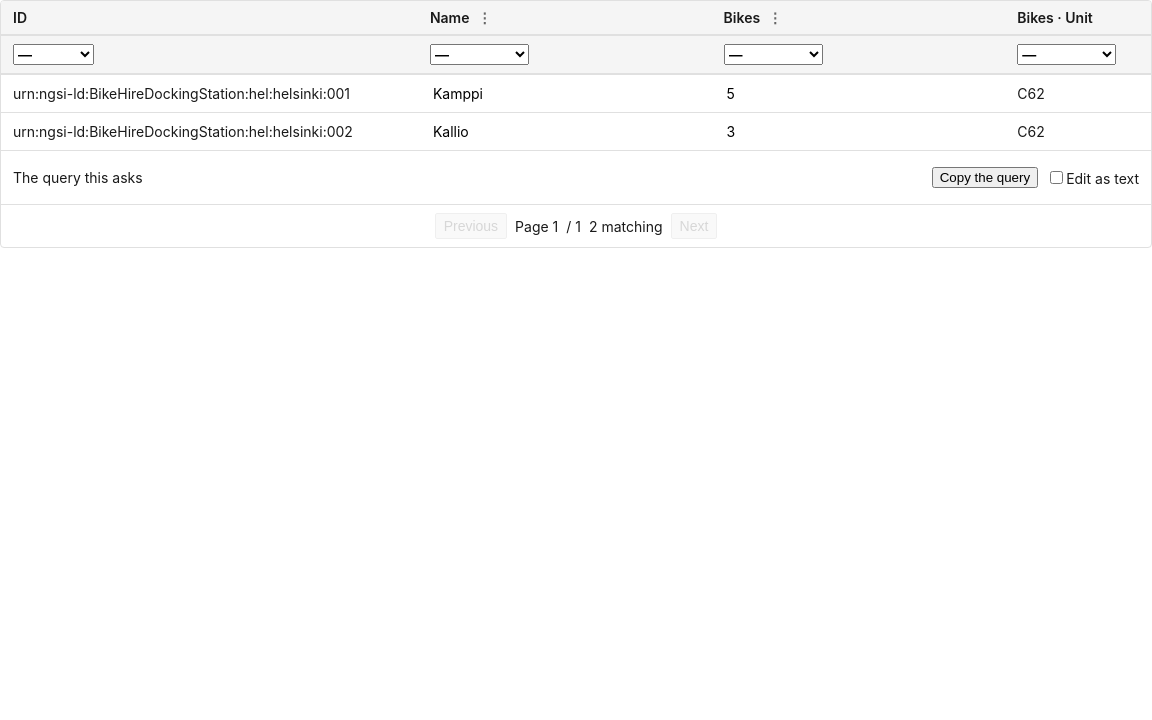
edit mode › keeps a refused cell and its reason, and forgets the one that landed
The width and height of the screenshot is (1152, 720).
Replace the text in the 1st number field showing "5" with "4" at (858, 94), box [724, 83, 993, 104]
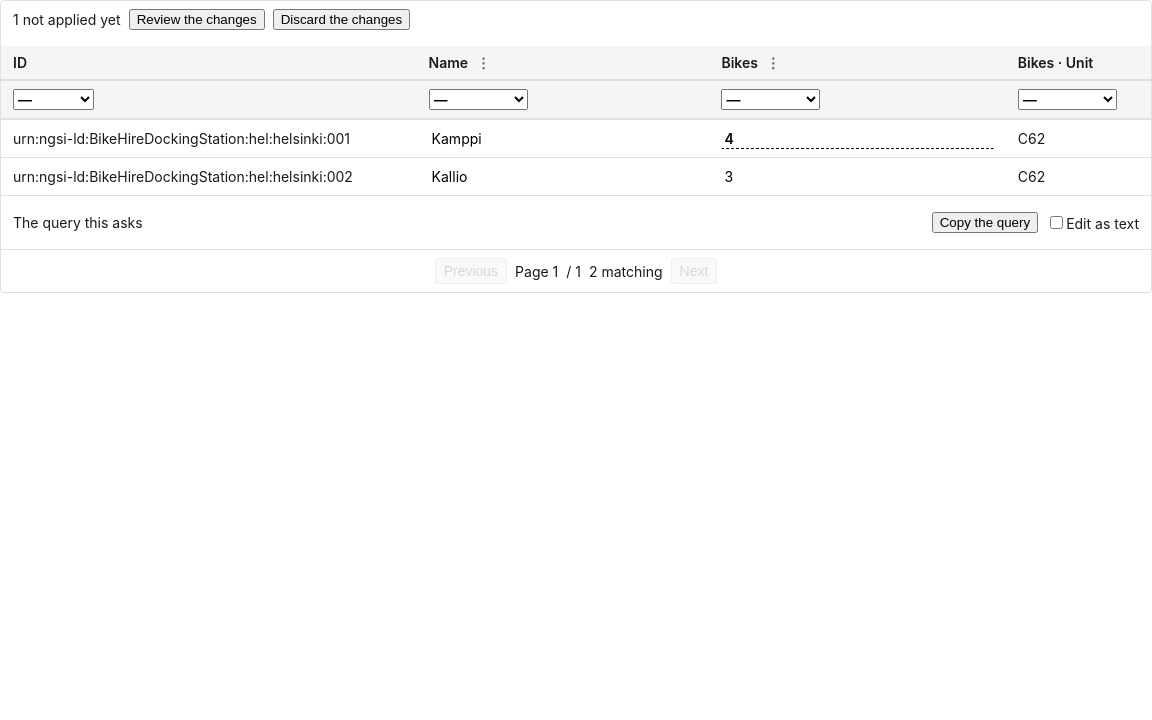
Replace the text in the 2nd number field showing "3" with "2" at (858, 176), box [721, 166, 994, 187]
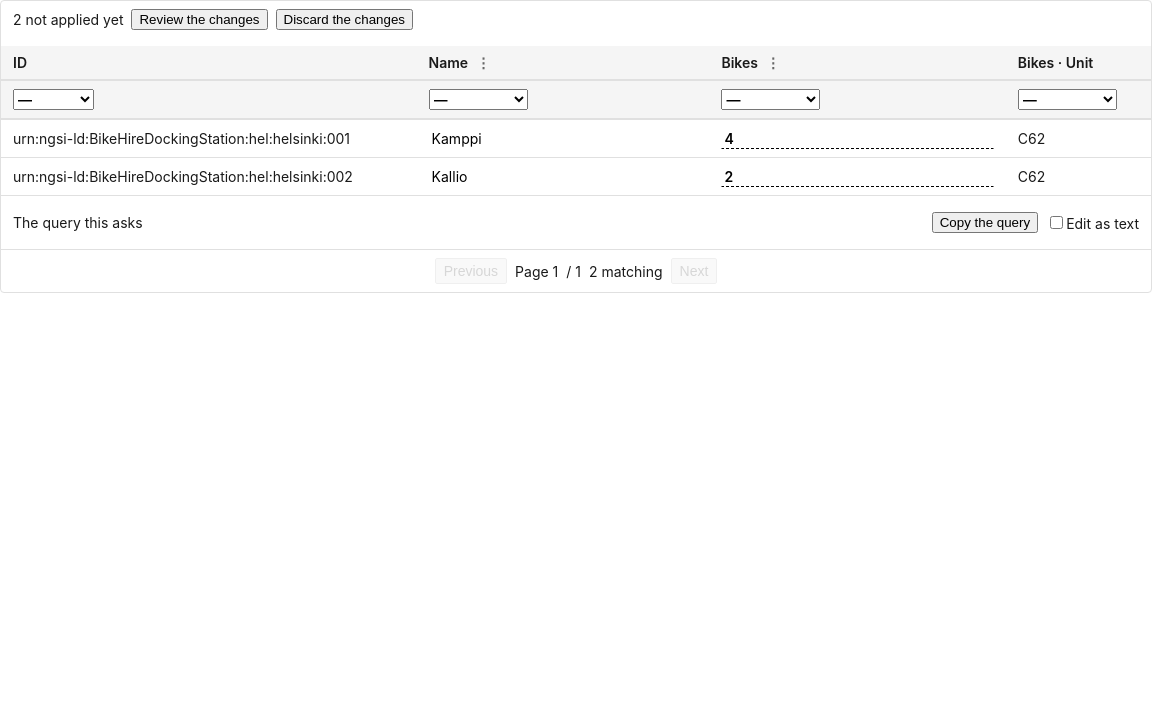
Click the button "Review the changes" at (200, 20), box [132, 9, 268, 30]
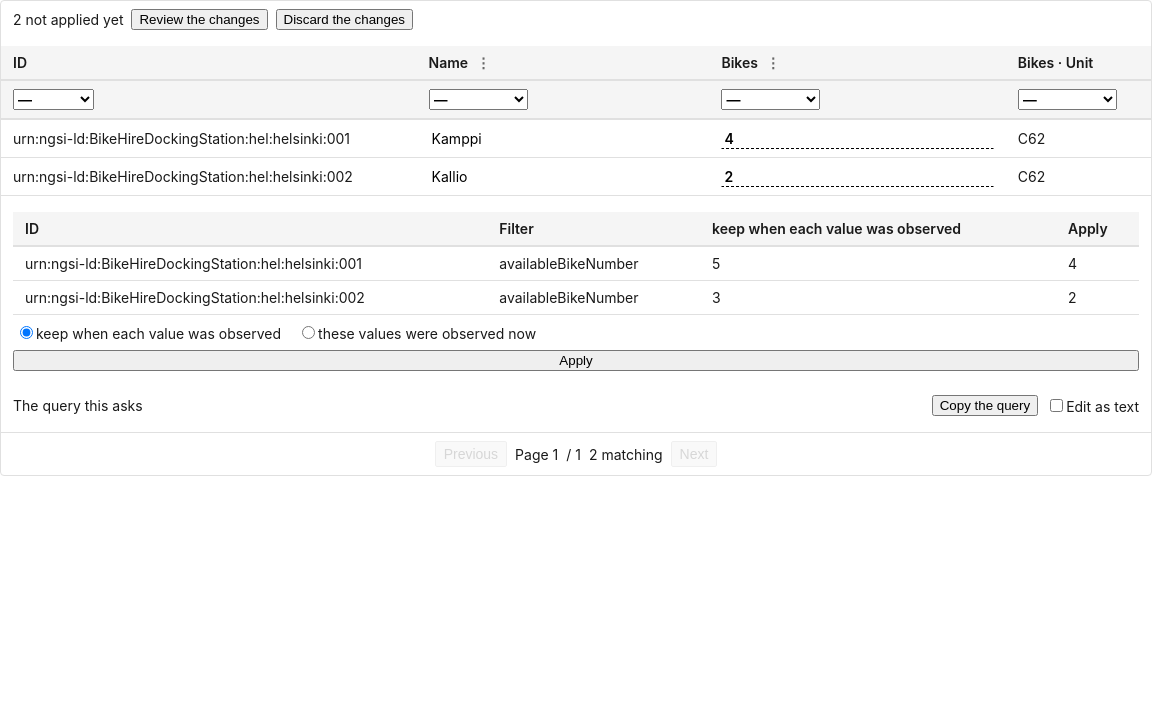
Click the button "Apply" at (576, 360), box [13, 350, 1139, 371]
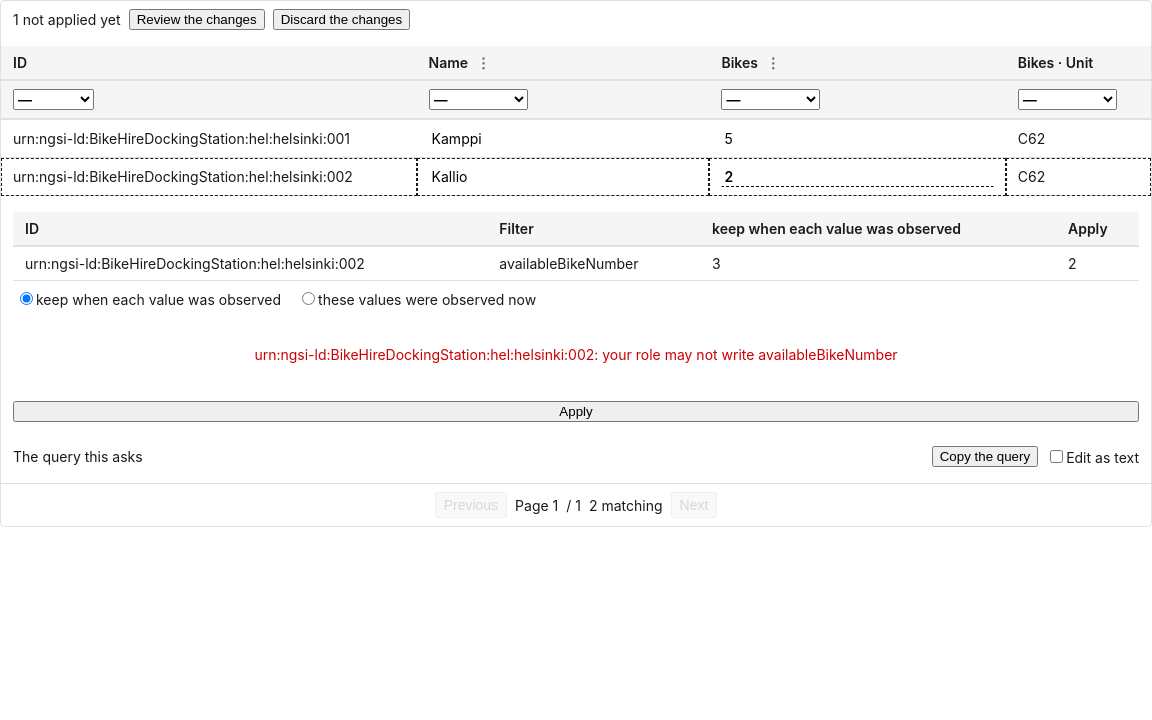
Check: the text "may not write availableBikeNumber" is shown, box [254, 346, 898, 363]
